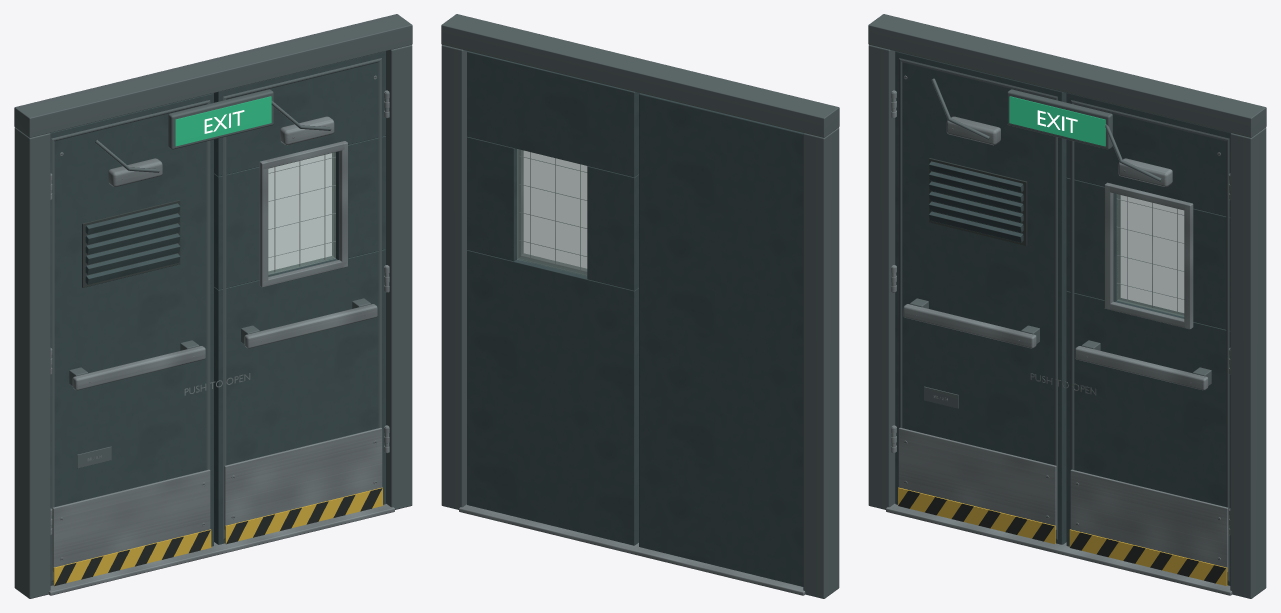
Rendered from door_industrial.glb.
The picture shows the model from 3 angles, left to right: view 1: azimuth 30°, elevation 25°; view 2: azimuth 150°, elevation 25°; view 3: azimuth 330°, elevation 25°; orthographic projection.
Visible parts, largest first — view 1: door_industrial_powder_coated_steel, door_industrial_dark_steel_frame, door_industrial_brushed_stainless, door_industrial_wired_glass, door_industrial_safety_ochre, door_industrial_hazard_black, door_industrial_exit_green, door_industrial_panel_shadow; view 2: door_industrial_powder_coated_steel, door_industrial_dark_steel_frame, door_industrial_wired_glass, door_industrial_brushed_stainless; view 3: door_industrial_powder_coated_steel, door_industrial_dark_steel_frame, door_industrial_brushed_stainless, door_industrial_wired_glass, door_industrial_safety_ochre, door_industrial_hazard_black, door_industrial_exit_green, door_industrial_panel_shadow.
Part boxes in pixels (left/top/right/bottom): door_industrial_powder_coated_steel: left=50, top=51, right=385, bottom=585; door_industrial_dark_steel_frame: left=14, top=14, right=412, bottom=598; door_industrial_brushed_stainless: left=48, top=75, right=394, bottom=595; door_industrial_wired_glass: left=268, top=152, right=335, bottom=274; door_industrial_safety_ochre: left=53, top=487, right=382, bottom=585; door_industrial_hazard_black: left=54, top=77, right=382, bottom=585; door_industrial_exit_green: left=175, top=96, right=271, bottom=146; door_industrial_panel_shadow: left=82, top=200, right=180, bottom=287; door_industrial_powder_coated_steel: left=467, top=51, right=803, bottom=586; door_industrial_dark_steel_frame: left=441, top=14, right=839, bottom=598; door_industrial_wired_glass: left=517, top=149, right=587, bottom=276; door_industrial_brushed_stainless: left=459, top=150, right=805, bottom=595; door_industrial_powder_coated_steel: left=895, top=51, right=1230, bottom=585; door_industrial_dark_steel_frame: left=868, top=14, right=1266, bottom=598; door_industrial_brushed_stainless: left=886, top=75, right=1232, bottom=595; door_industrial_wired_glass: left=1116, top=194, right=1184, bottom=316; door_industrial_safety_ochre: left=898, top=487, right=1227, bottom=585; door_industrial_hazard_black: left=898, top=77, right=1225, bottom=583; door_industrial_exit_green: left=1009, top=96, right=1105, bottom=146; door_industrial_panel_shadow: left=929, top=158, right=1027, bottom=245.
Size of the model in its own units: 2 by 2.4 by 0.2439.
9 materials, 2 textured.
